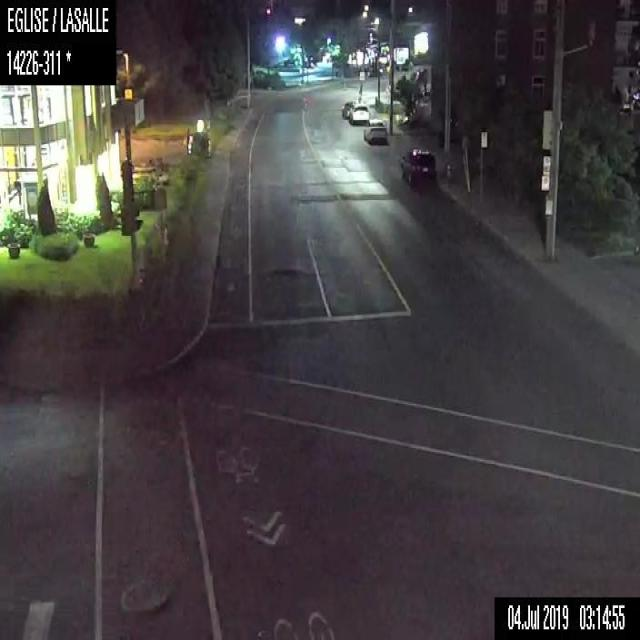vehicle: (399, 147, 436, 185), (362, 118, 387, 144), (348, 104, 369, 123), (340, 100, 354, 118)
